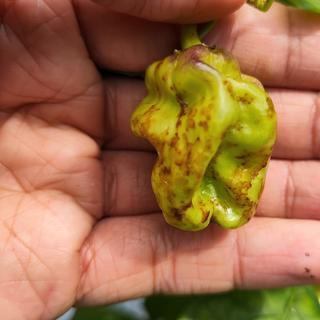Defect: (132, 43, 279, 230)
